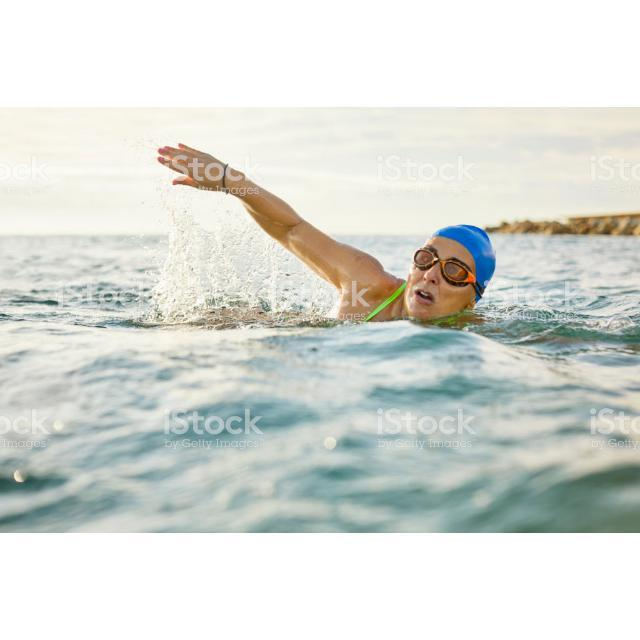human: (155, 140, 498, 336)
